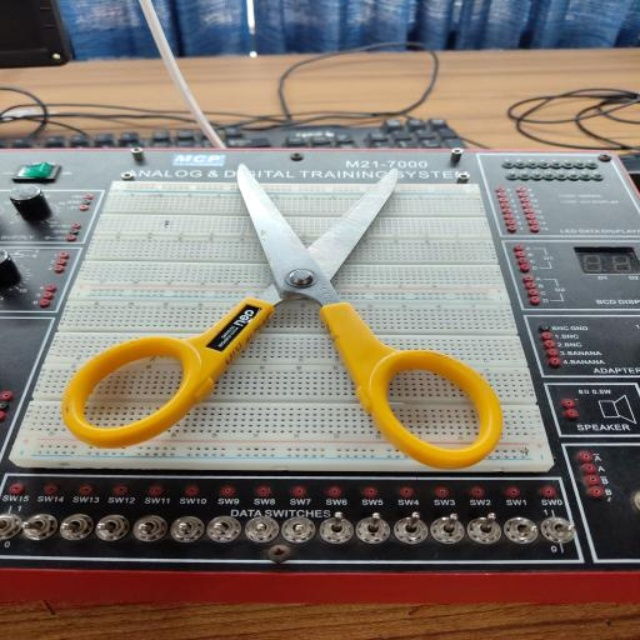scissor: (57, 160, 508, 475)
